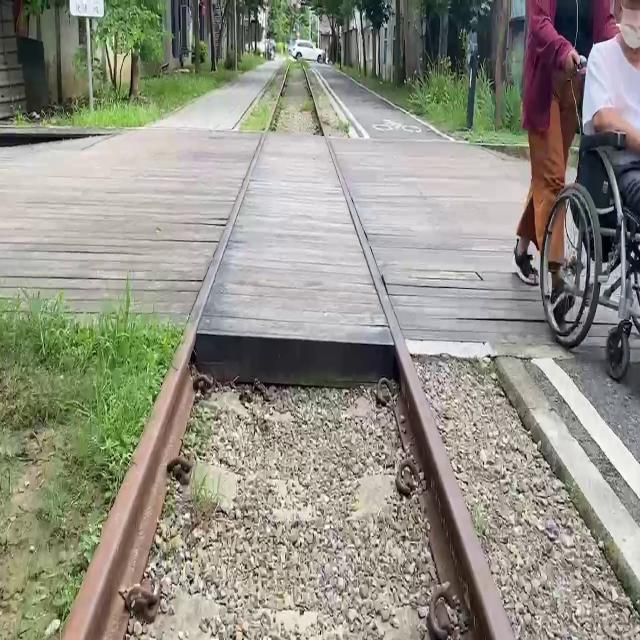rail: (28, 59, 574, 640)
